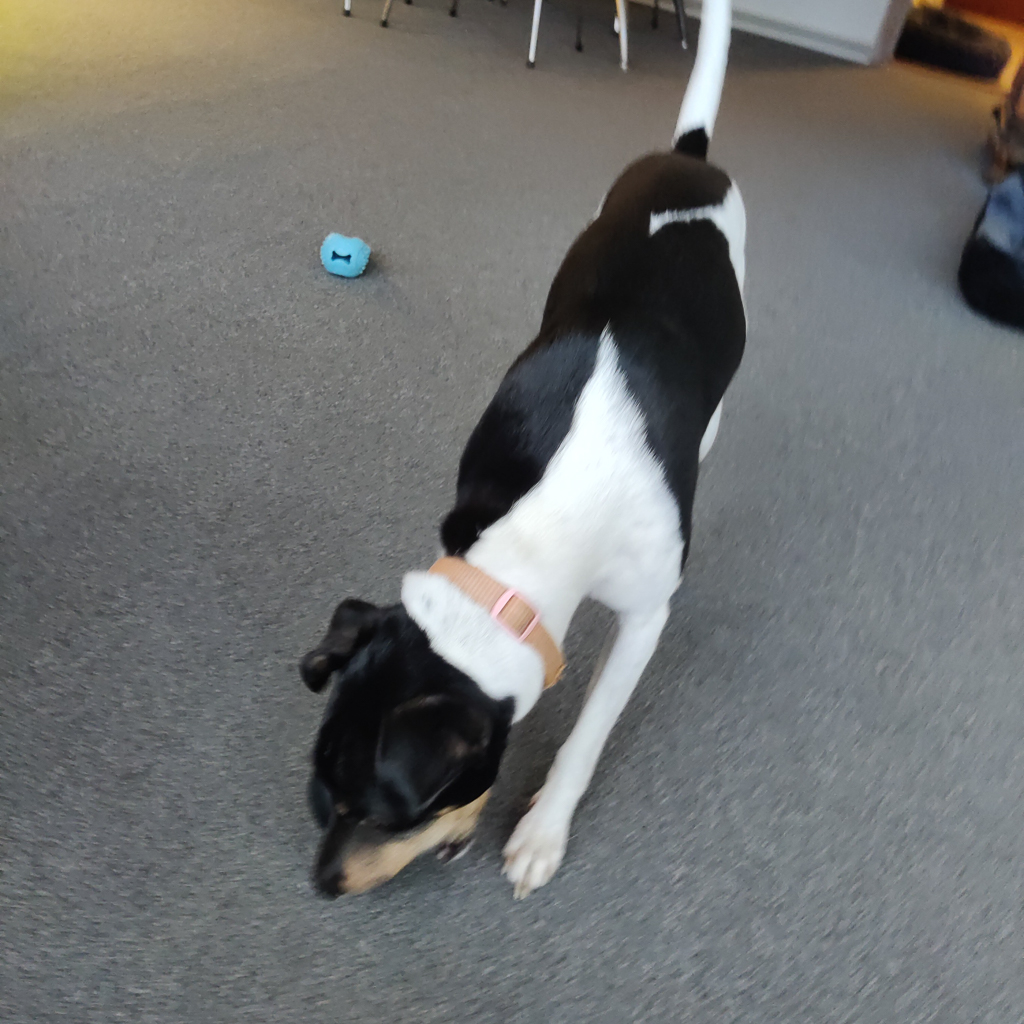Dog: (264, 0, 767, 938)
